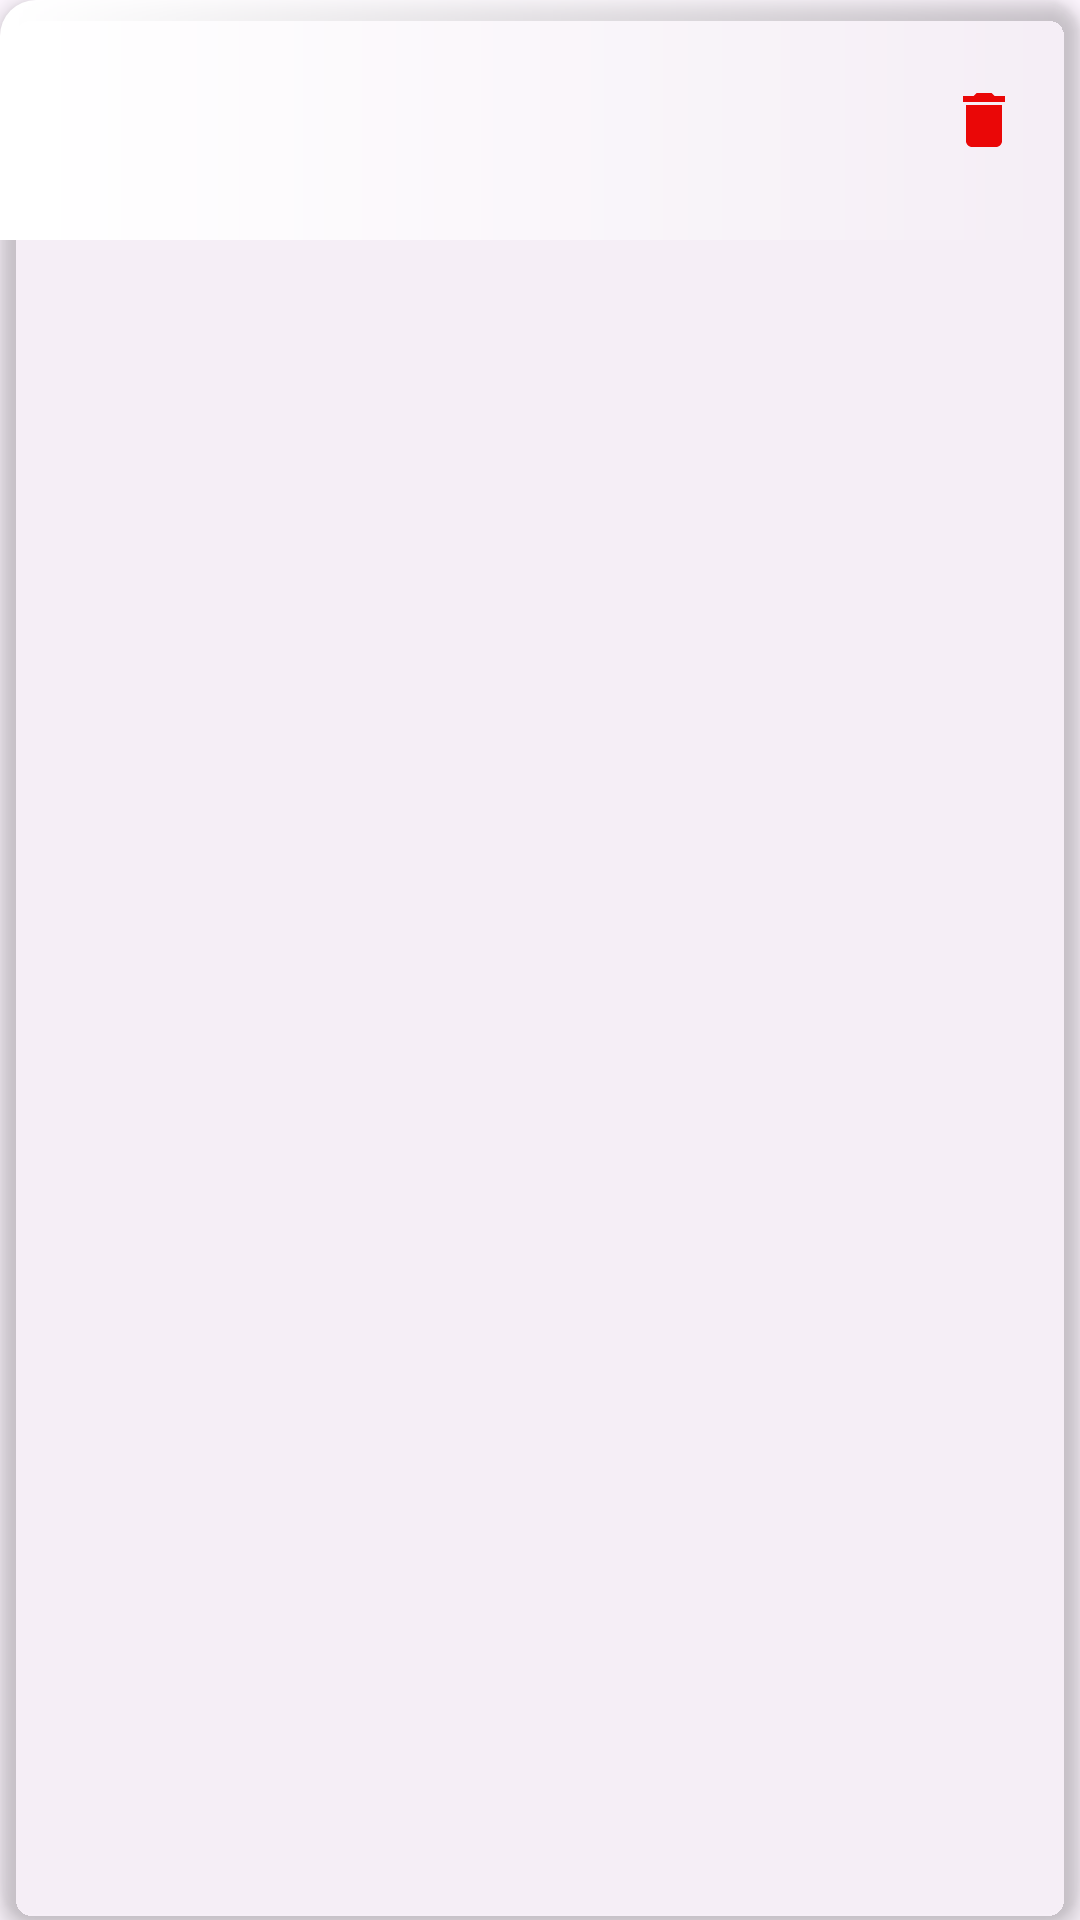

Icons on this 1080x1920 Android screen, each with its box as rect(x1, y1, x2, y2):
delete: rect(963, 93, 1005, 147)
